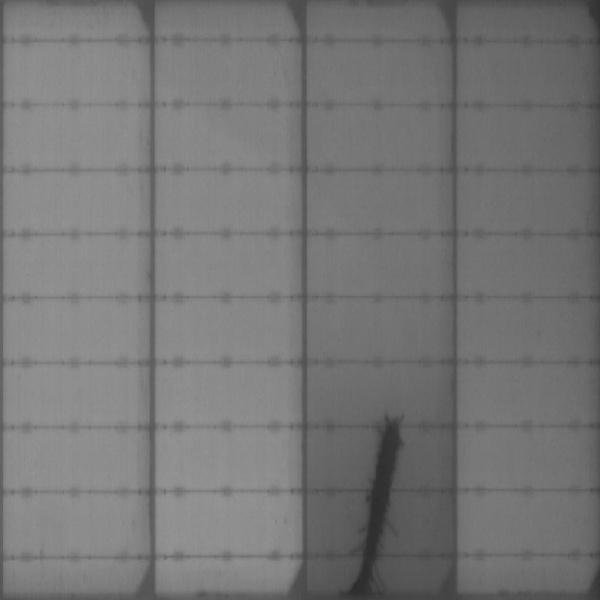broken: (351, 489, 399, 553), (370, 412, 408, 488), (337, 553, 386, 599)
